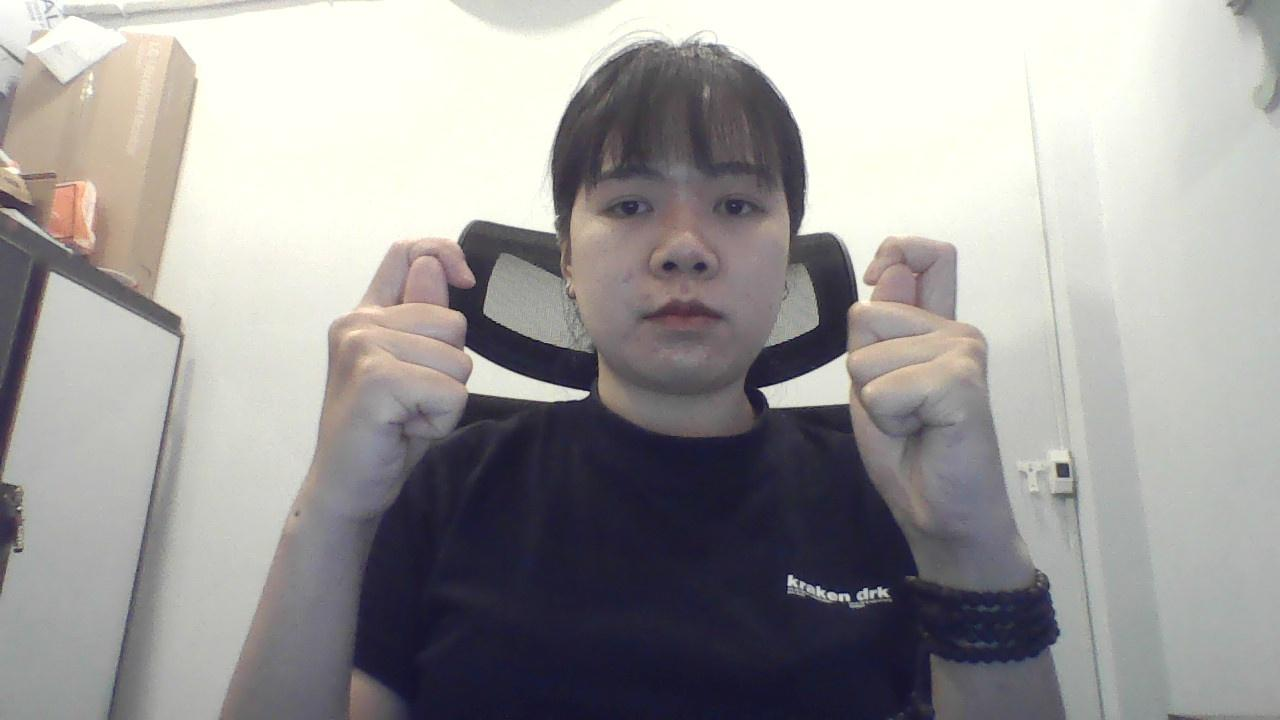X: (289, 229, 515, 519), (842, 214, 1033, 548)
